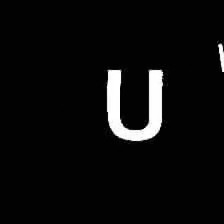LTR_U: (98, 60, 166, 144)
